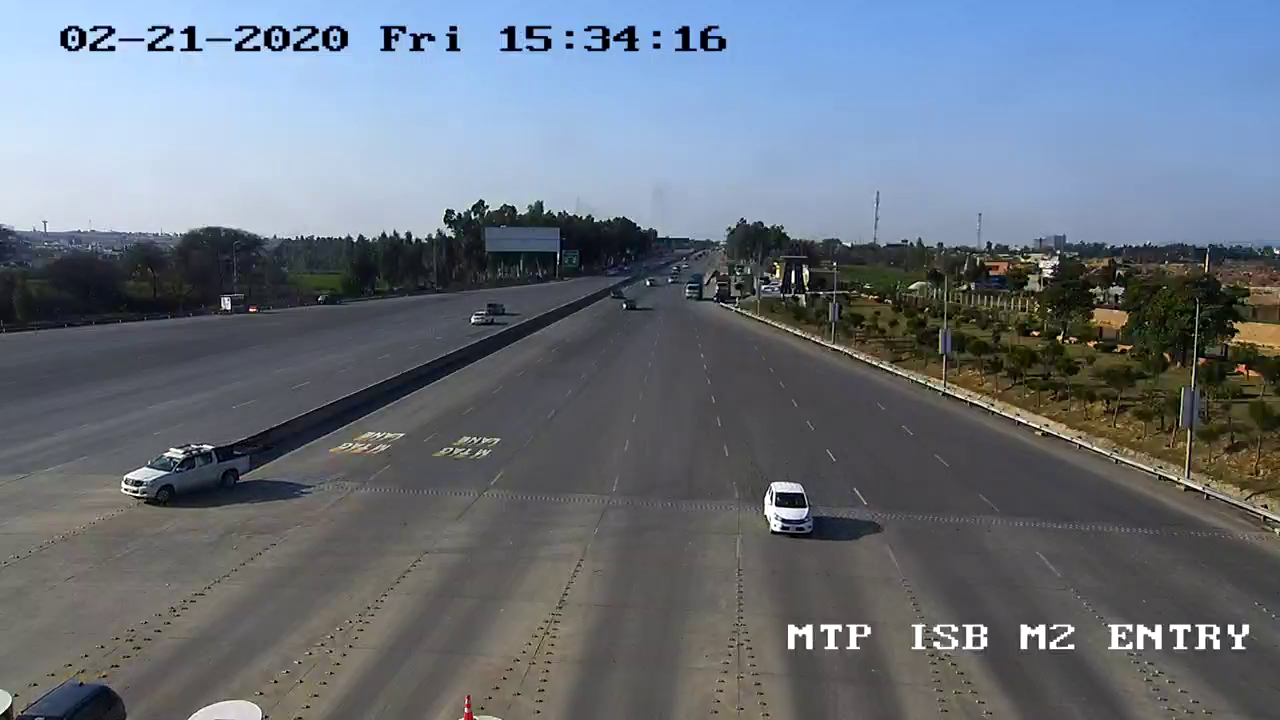f1: (115, 435, 257, 514), (760, 473, 821, 543)
